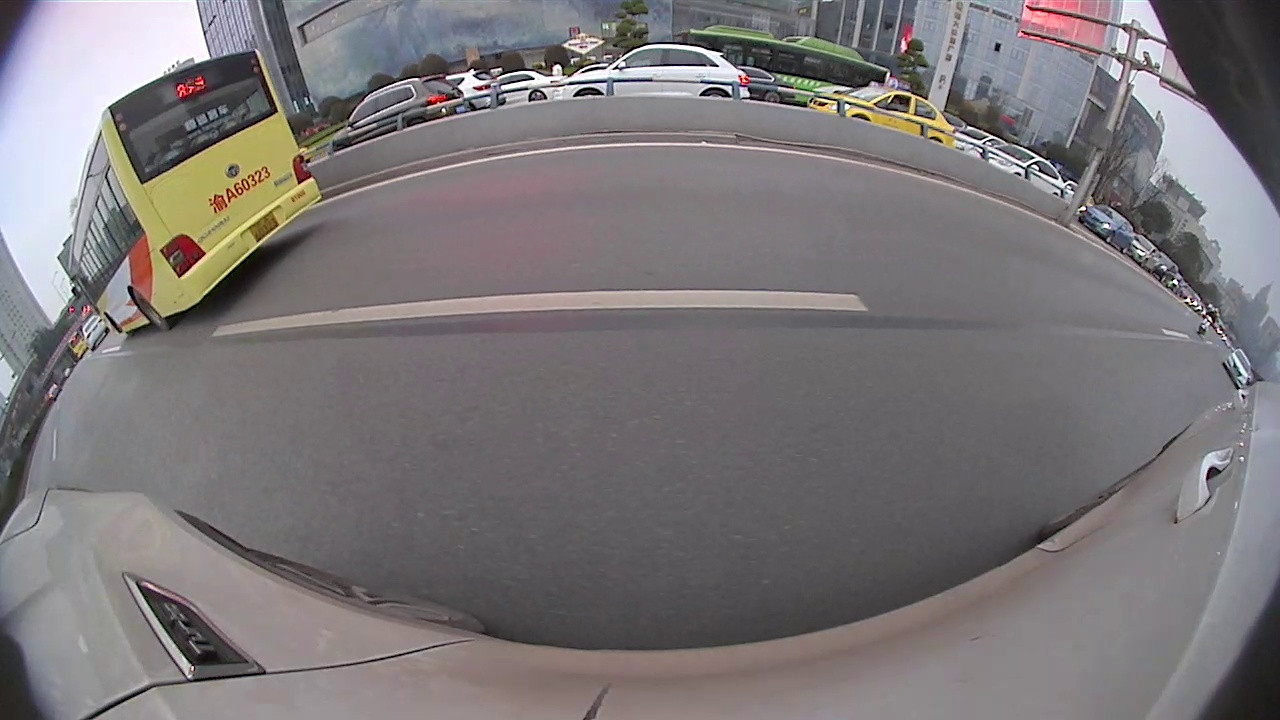bus: (63, 48, 323, 338), (684, 23, 893, 103)
car: (327, 73, 471, 156), (808, 75, 959, 152), (552, 44, 751, 101), (960, 142, 1071, 202), (725, 63, 798, 108), (1073, 203, 1134, 254), (438, 67, 508, 109), (488, 69, 568, 103), (955, 126, 1013, 168), (79, 316, 111, 348)
front: (104, 311, 129, 342)
rear: (128, 286, 173, 335)
